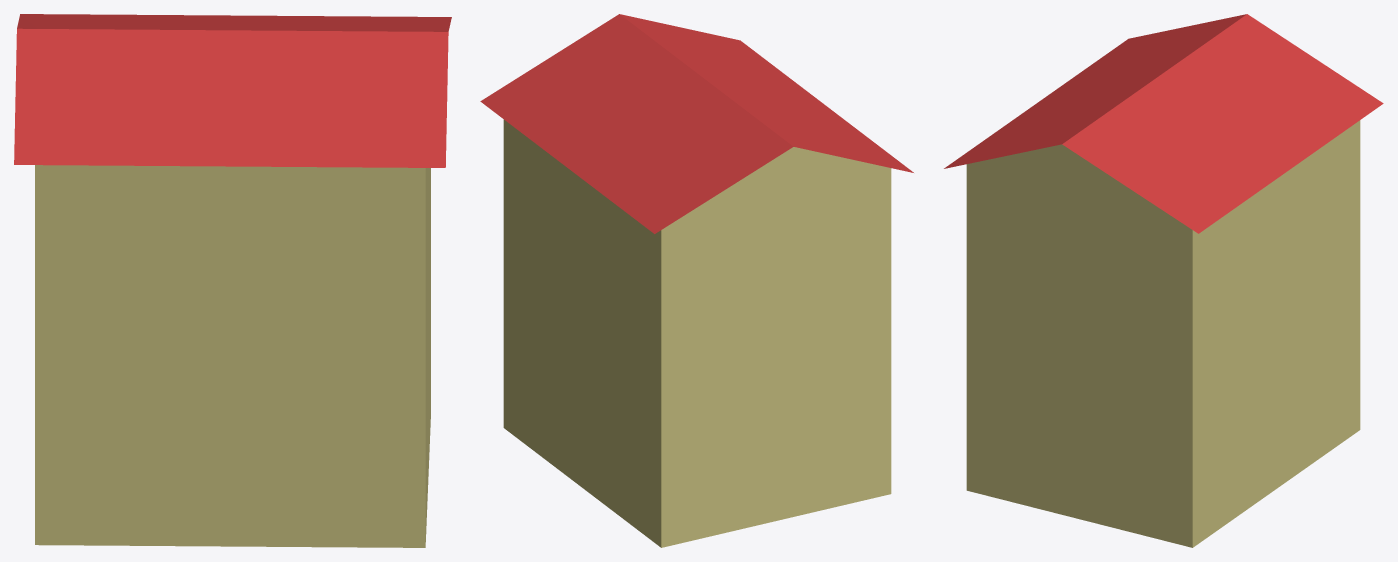
3 renders of one model, left to right at view 1: azimuth 30°, elevation 25°; view 2: azimuth 150°, elevation 25°; view 3: azimuth 270°, elevation 25°, orthographic. The views are drawn at different scales.
Bounding box in the file's own units: 6.75 × 6.43 × 6.11.
